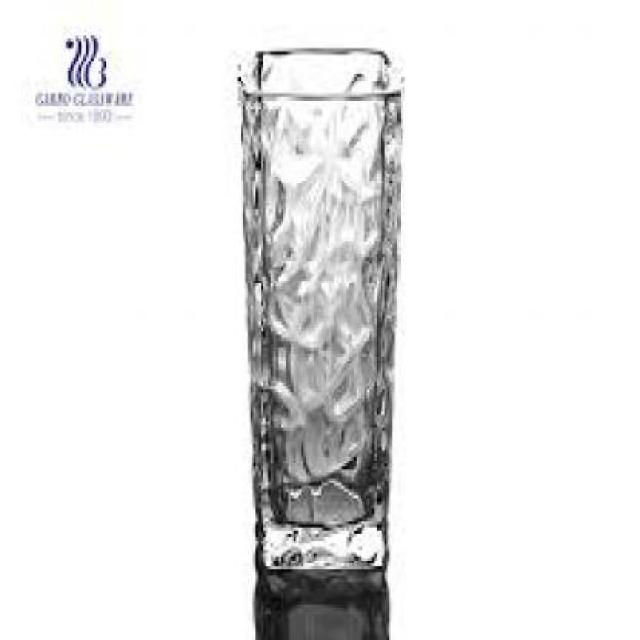kaca: (232, 45, 400, 637)
